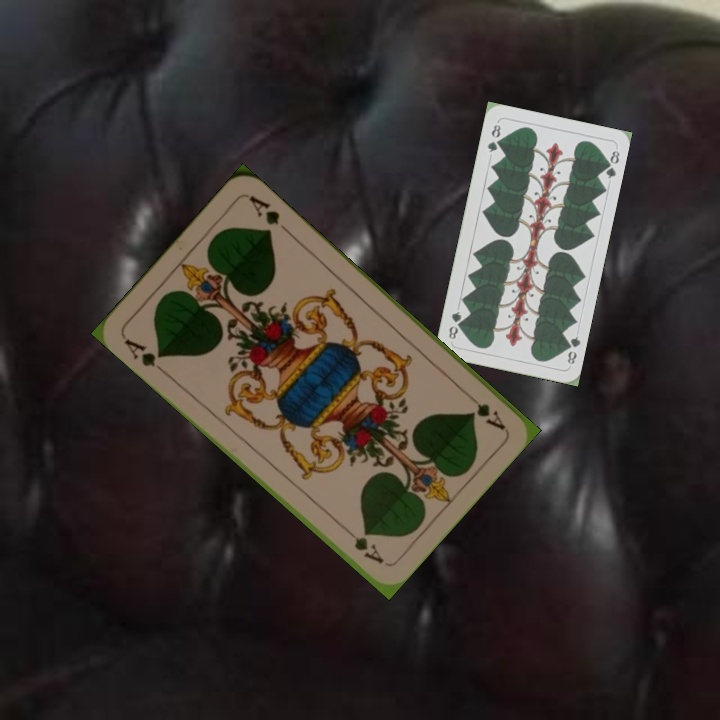G8: (561, 332, 583, 367), (483, 120, 503, 155)
GA: (461, 387, 508, 433), (120, 334, 167, 377)
